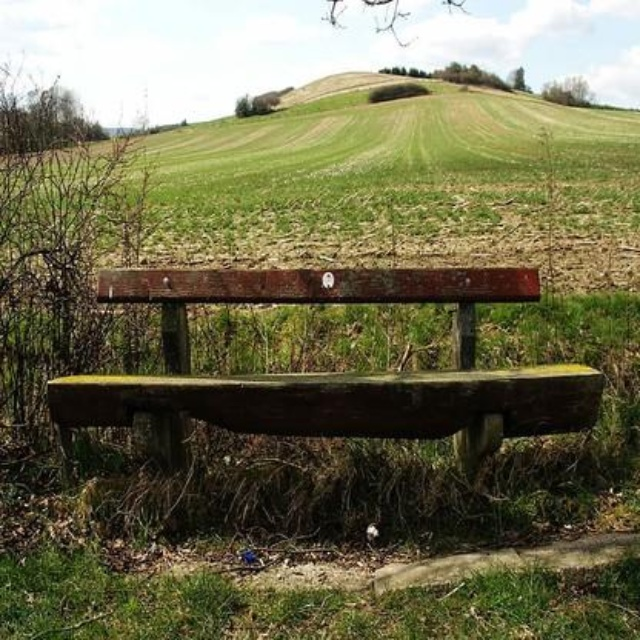obstacle: (45, 258, 608, 474)
